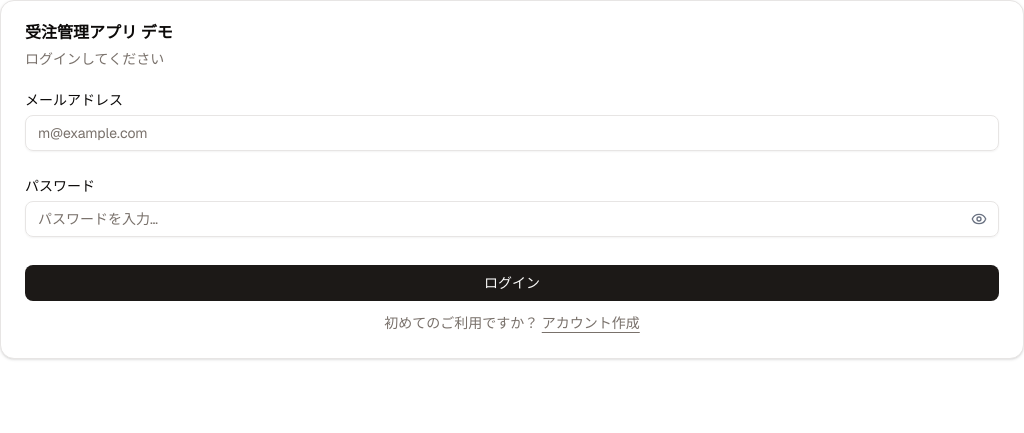
Test case: LoginForm コンポーネント › バリデーション › 不正なメール形式でサブミットするとバリデーションエラーが表示されること
In the field with placeholder "m@example.com": (512, 133) [25, 115, 999, 151], type "invalid-email"
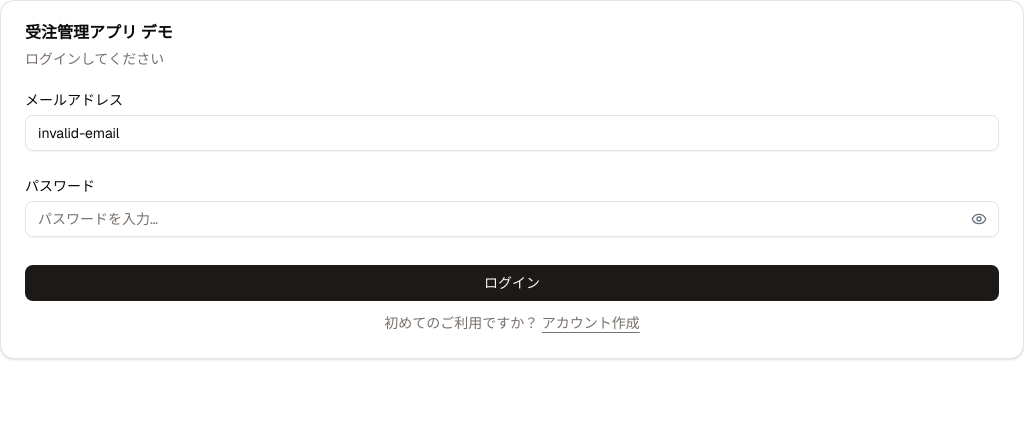
Submit the form "ログイン", box [25, 93, 999, 334]
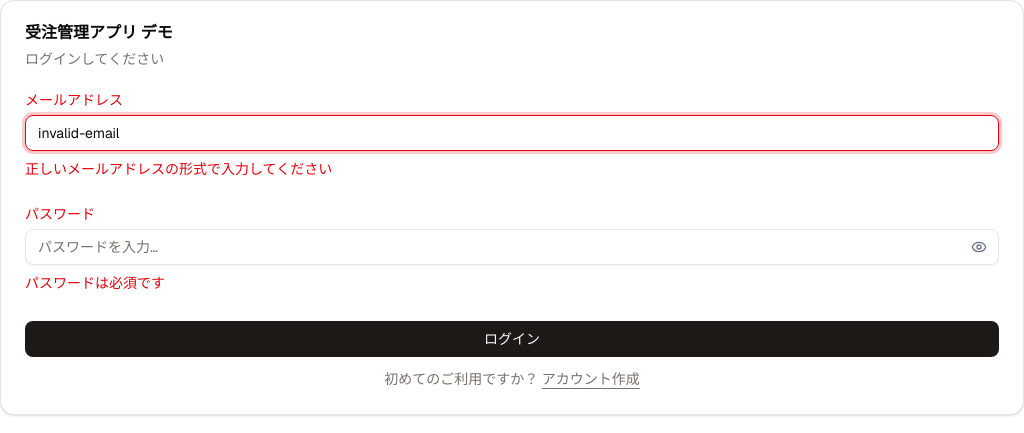
Now the text "正しいメールアドレスの形式で入力してください" is shown, box [25, 160, 332, 178]
